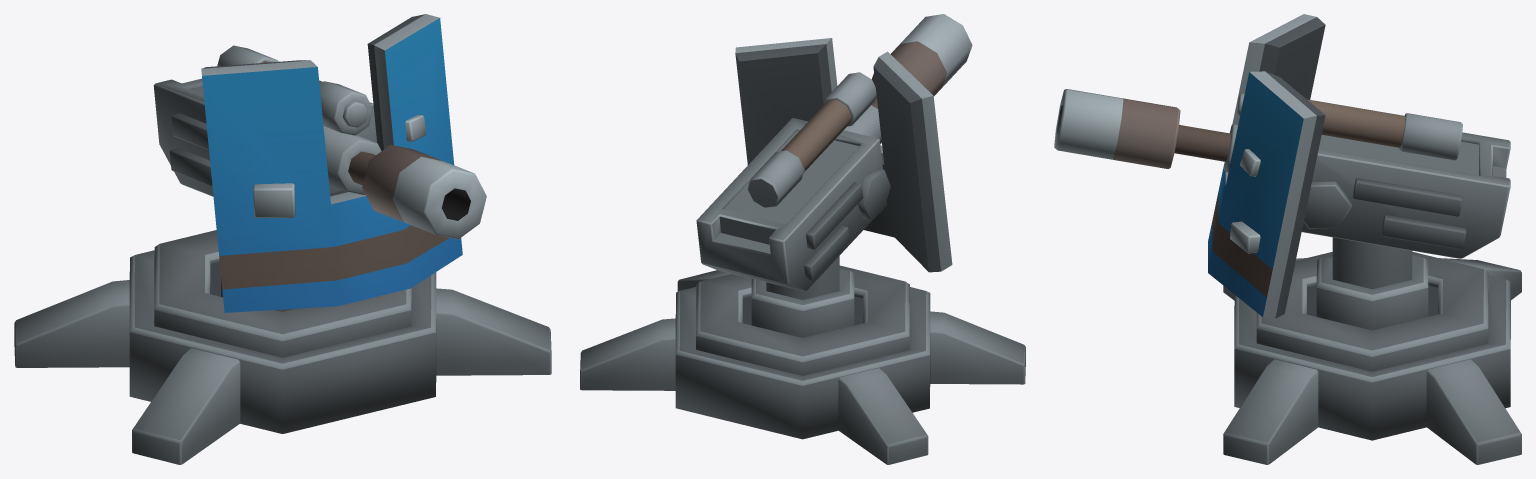
File: animated_game-ready_turret.glb
The picture shows the model from 3 angles, left to right: view 1: azimuth 30°, elevation 25°; view 2: azimuth 150°, elevation 25°; view 3: azimuth 270°, elevation 25°; orthographic projection. The views are drawn at different scales.
Visible parts, largest first — view 1: Turret, Stand; view 2: Stand, Turret; view 3: Turret, Stand.
Boxes of the visible parts, x1,y1,x2,y2 form: Turret: [153, 14, 486, 312]; Stand: [14, 230, 551, 464]; Stand: [580, 256, 1025, 464]; Turret: [696, 14, 972, 291]; Turret: [1054, 14, 1510, 318]; Stand: [1223, 237, 1521, 464].
Size of the model in its own units: 1.13 by 0.9057 by 1.21.
Materials: 1 (1 with a texture image).
